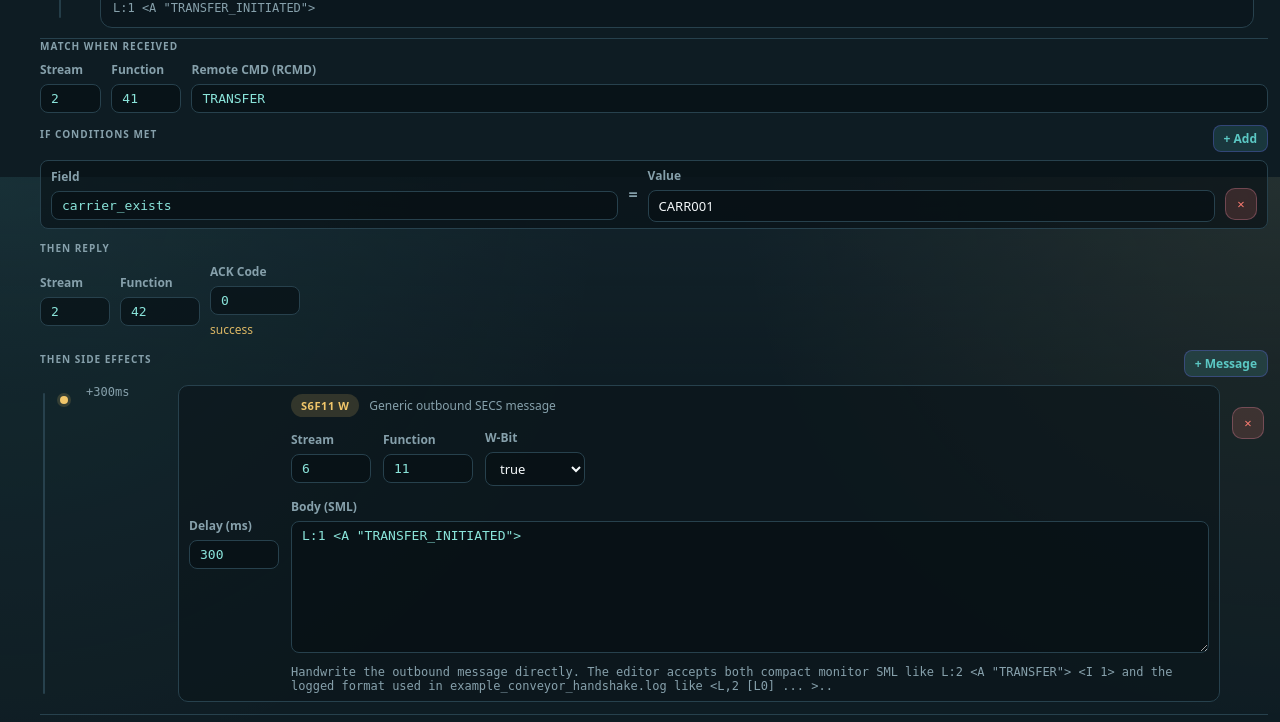
Test: RulesTab › surfaces readiness issues and applies starter presets
(page scrolled)
Clear the text box labelled "Body (SML)". click: (750, 586)
box: [291,520,1209,652]
(page scrolled)
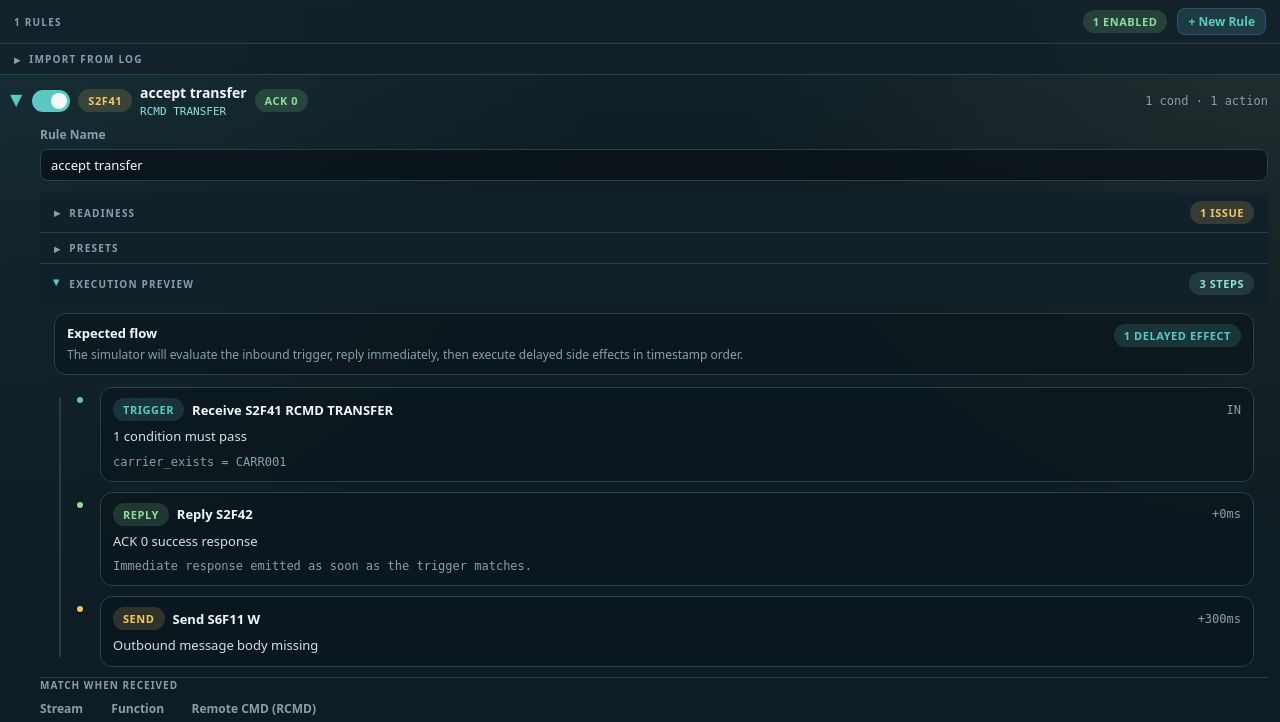
Note: Readiness section appears when there are issues - expand it
Click the text "Readiness". click: (102, 212)
box: [69,206,135,220]
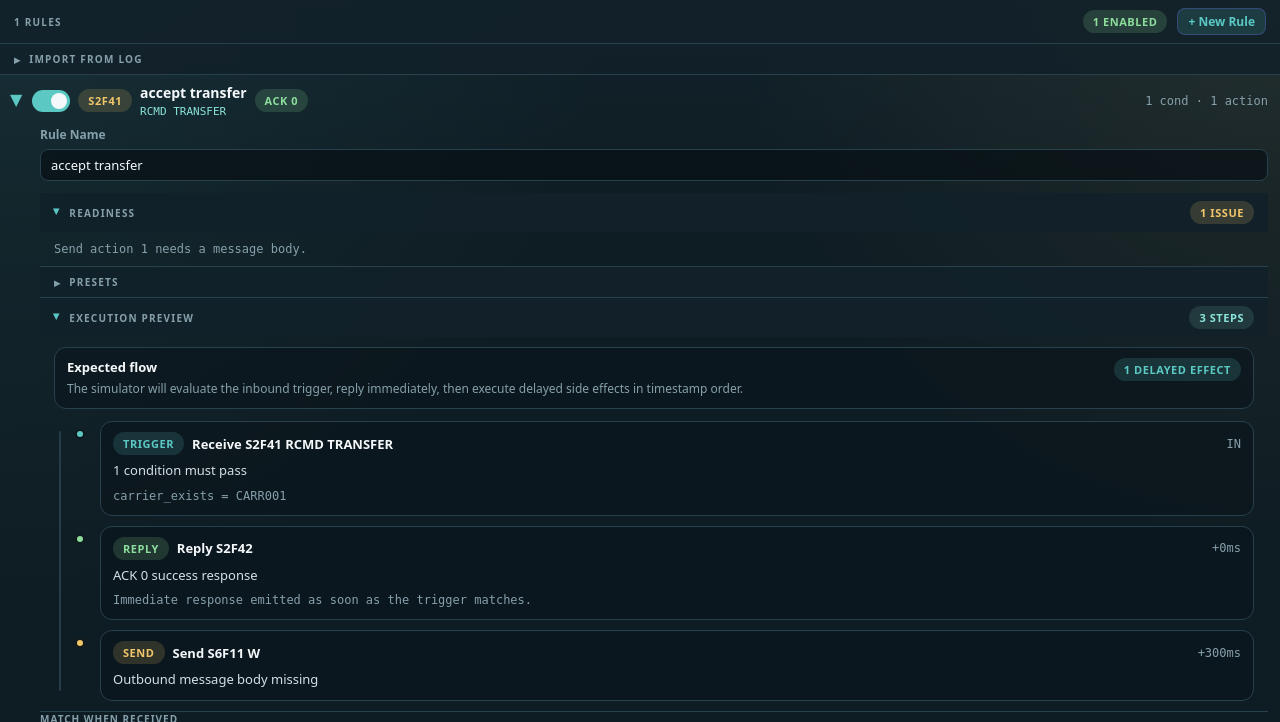
Check: the text "Send action 1 needs a message body." is shown, box [54,242,307,256]
Note: Expand presets section and apply one
Click the text "Presets". click: (94, 282)
box: [69,275,119,289]
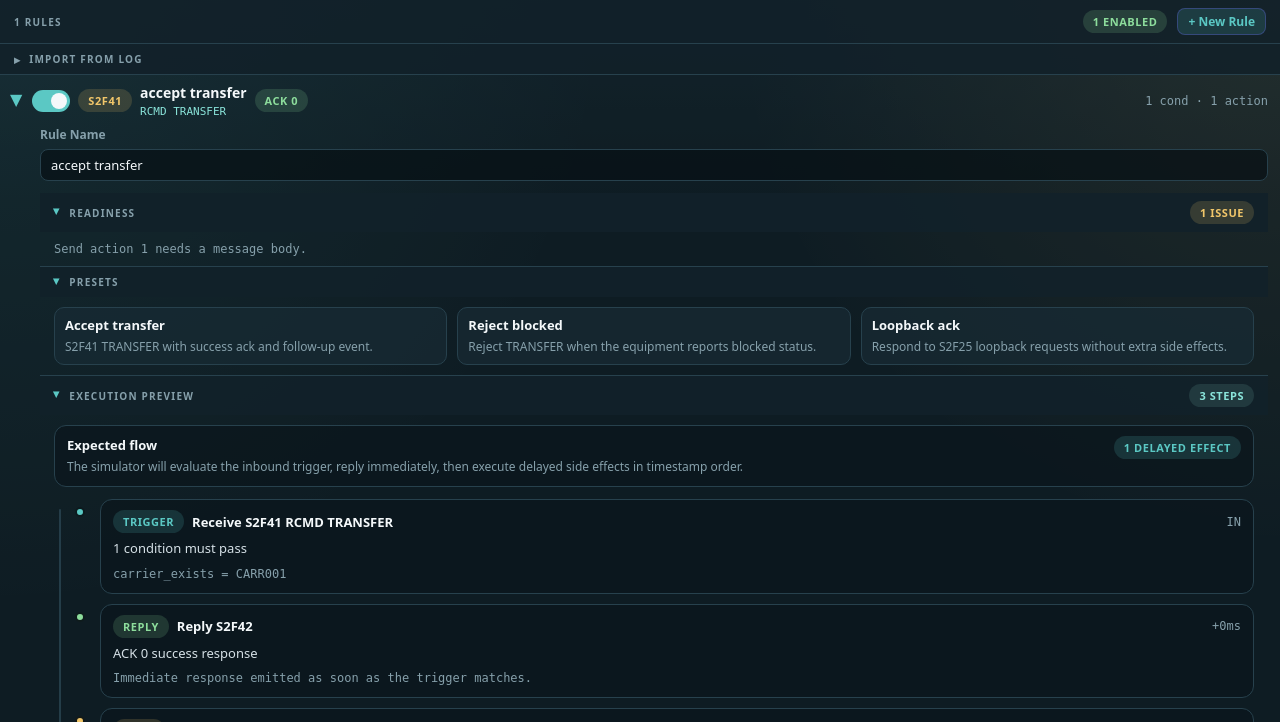
Click the button "Reject blocked". click: (654, 336)
box: [457,307,851,365]
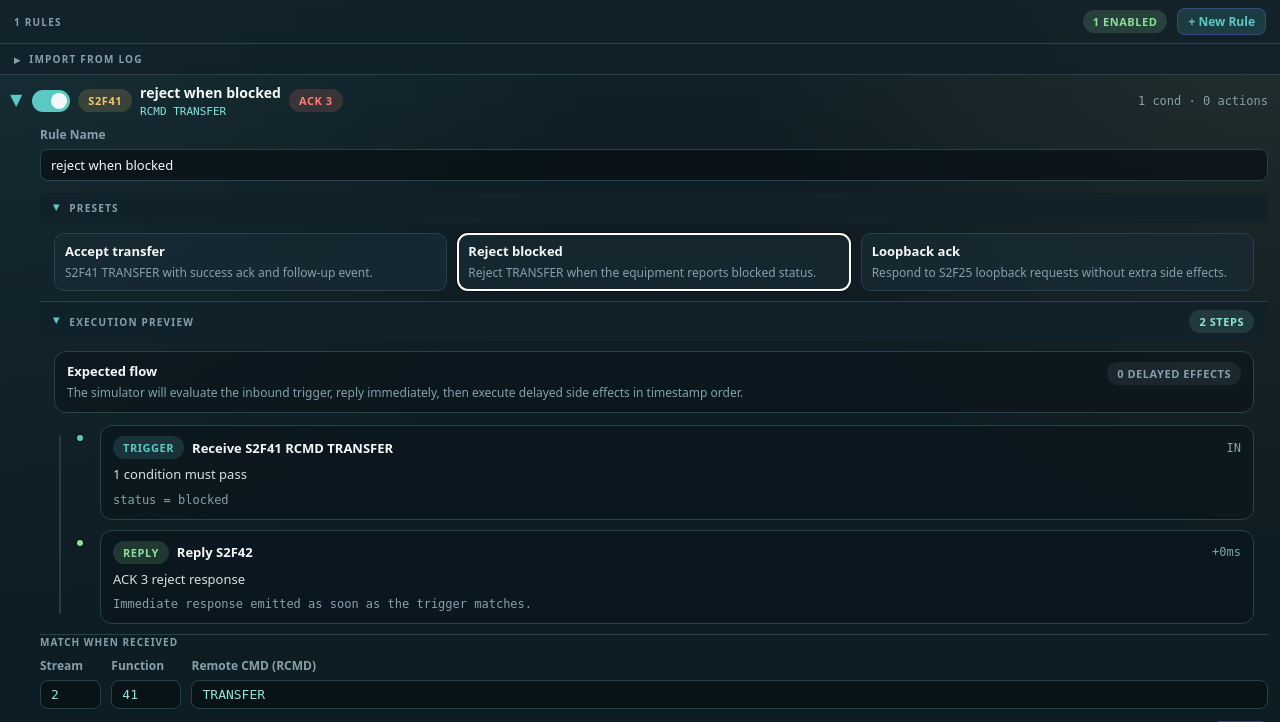
Check: the field showing "reject when blocked" is shown, box [40,149,1268,181]
Check: the text "ACK 3" is shown, box [289,89,343,112]
